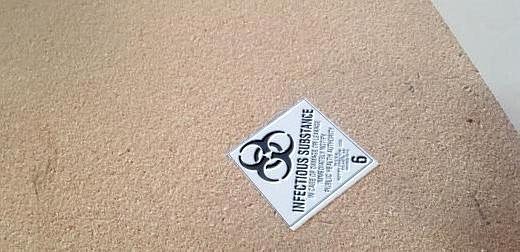infectious-substance: (230, 98, 382, 232)
